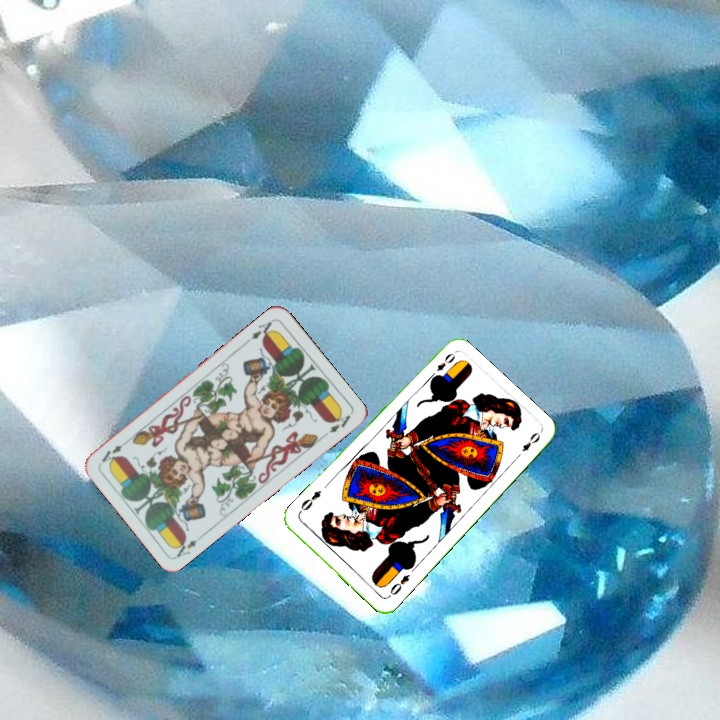EA: (241, 316, 277, 346), (170, 530, 206, 560)
EO: (386, 570, 413, 598), (433, 349, 458, 374)
